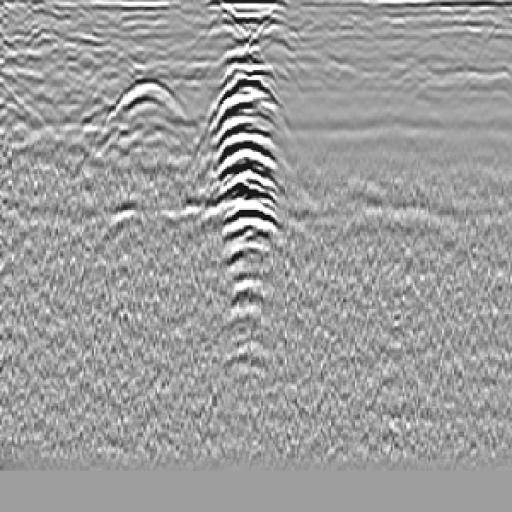metalic: (182, 24, 310, 355)
nonmetalic: (87, 46, 205, 173)
